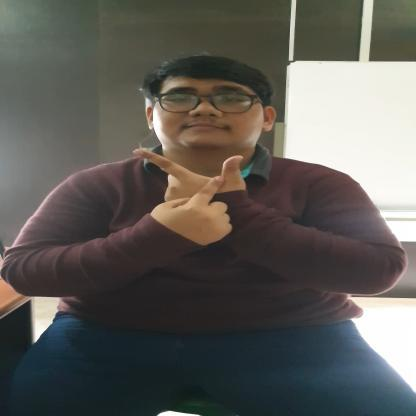Y: (126, 149, 250, 247)
